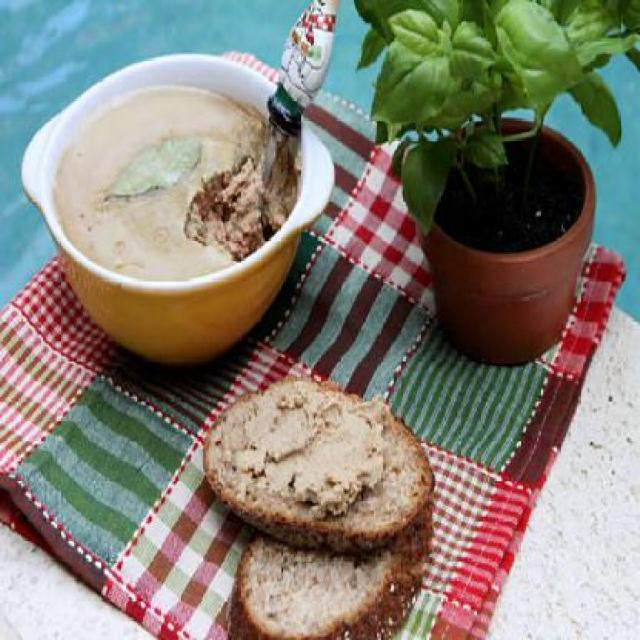Spread: (230, 398, 402, 520)
